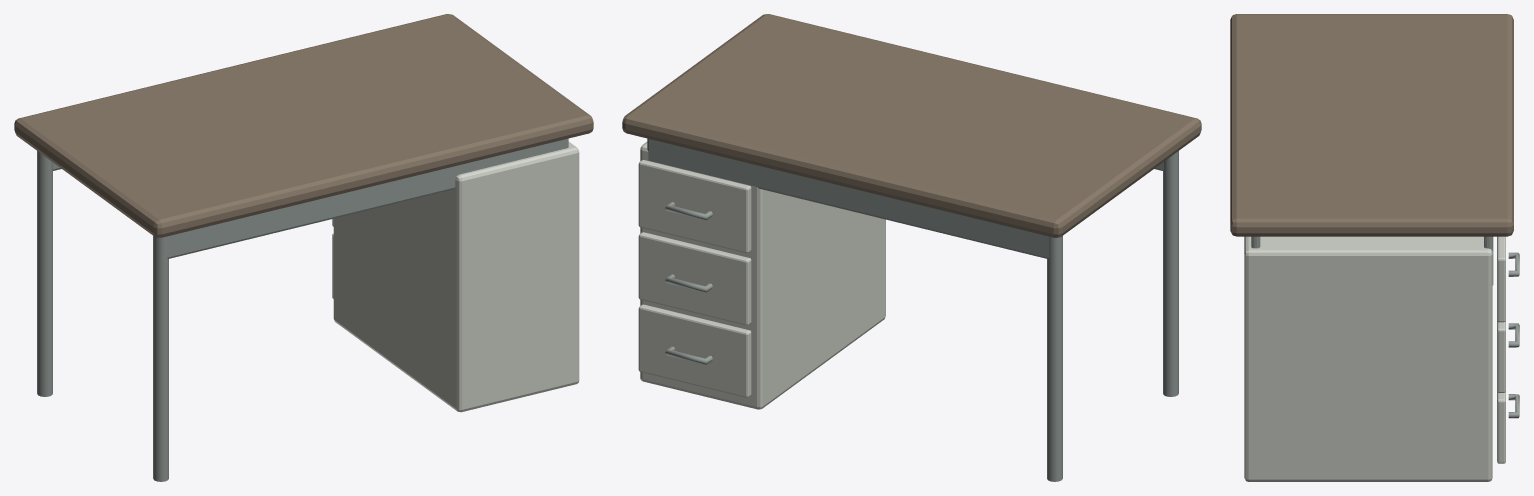
Rendered from nurse_station.glb.
3 renders of one model, left to right at view 1: azimuth 30°, elevation 25°; view 2: azimuth 150°, elevation 25°; view 3: azimuth 270°, elevation 25°, orthographic. The views are drawn at different scales.
Visible parts, largest first — view 1: KitWood, KitIvory, KitSteel; view 2: KitWood, KitIvory, KitSteel; view 3: KitWood, KitIvory, KitSteel.
Part boxes in pixels (<box>): KitWood: <box>14,14,593,237</box>; KitIvory: <box>332,142,579,412</box>; KitSteel: <box>37,138,568,481</box>; KitWood: <box>622,14,1201,237</box>; KitIvory: <box>638,142,885,409</box>; KitSteel: <box>647,138,1178,481</box>; KitWood: <box>1230,14,1513,236</box>; KitIvory: <box>1244,236,1505,481</box>; KitSteel: <box>1251,236,1519,418</box>.
Size of the model in its own units: 1.4 by 0.8275 by 0.8164.
